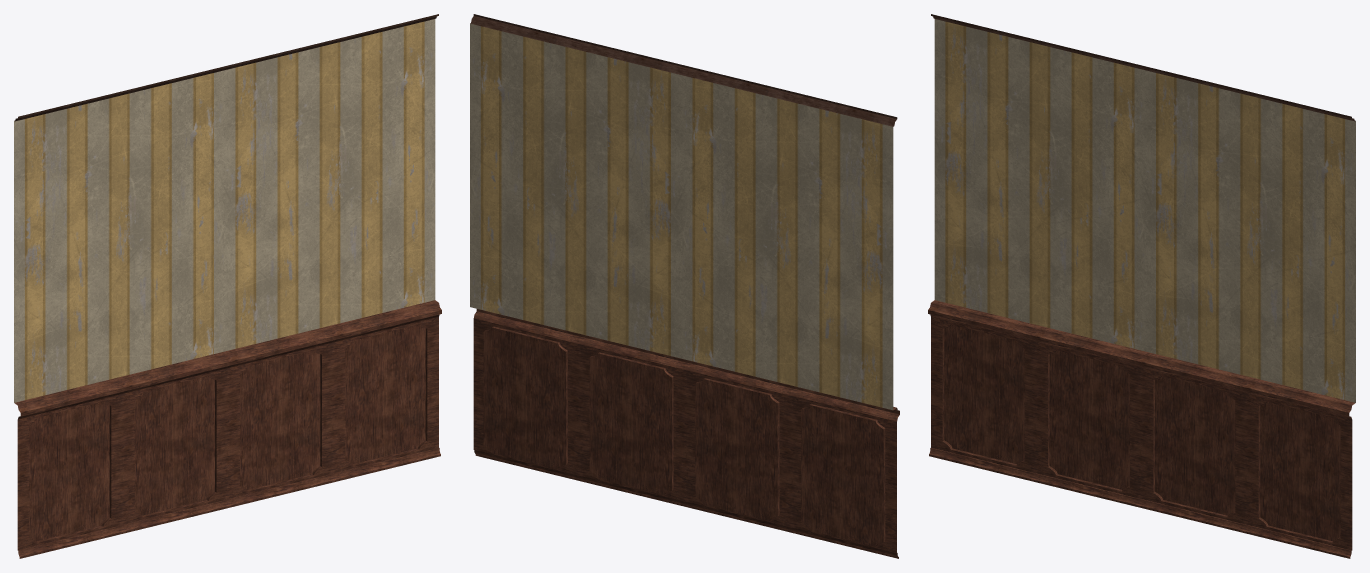
The model's file is SM_Wallpaper.fbx.
3 renders of one model, left to right at view 1: azimuth 30°, elevation 25°; view 2: azimuth 150°, elevation 25°; view 3: azimuth 330°, elevation 25°, orthographic.
Parts seen in each view (by area): view 1: SM_Wallpaper; view 2: SM_Wallpaper; view 3: SM_Wallpaper.
Boxes of the visible parts, x1,y1,x2,y2 form: SM_Wallpaper: (14,14,441,558); SM_Wallpaper: (470,14,899,558); SM_Wallpaper: (928,14,1355,558).
Size of the model in its own units: 400 by 400 by 10.8.
